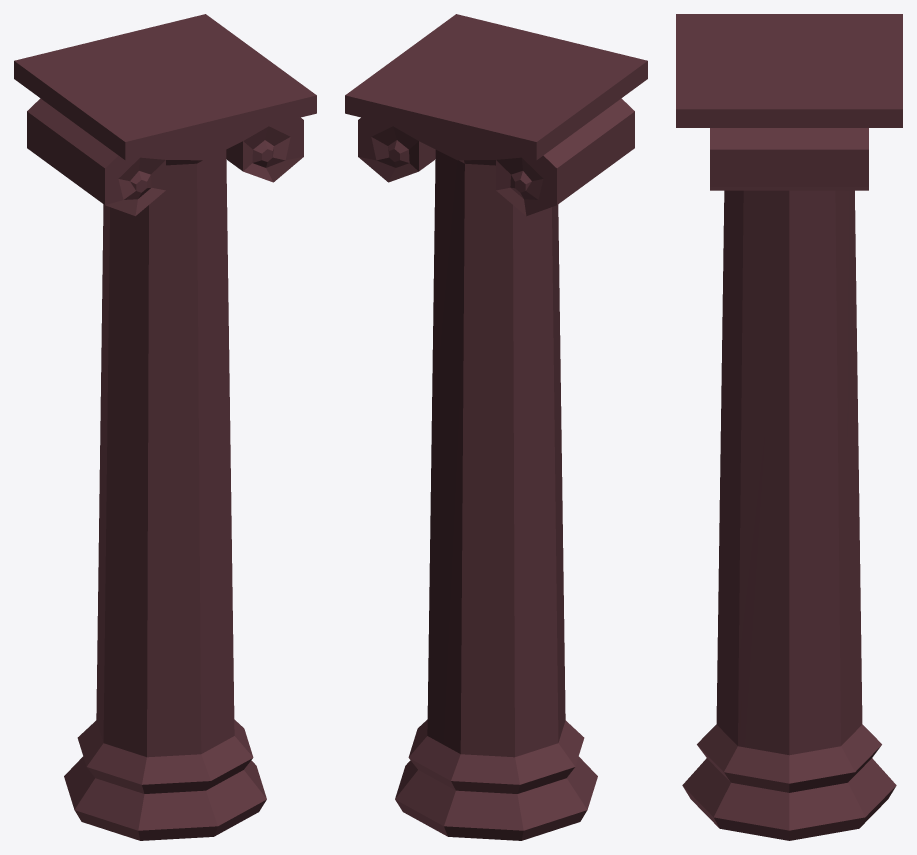
File: SM_Pillar_Ionic_Small_Empire.fbx
3 renders of one model, left to right at view 1: azimuth 30°, elevation 25°; view 2: azimuth 150°, elevation 25°; view 3: azimuth 270°, elevation 25°, orthographic.
Visible parts, largest first — view 1: SM_Pillar_Ionic_Small_Empire; view 2: SM_Pillar_Ionic_Small_Empire; view 3: SM_Pillar_Ionic_Small_Empire.
Boxes of the visible parts, box(x1,y1,x2,y2) form: SM_Pillar_Ionic_Small_Empire: box(14, 14, 316, 840); SM_Pillar_Ionic_Small_Empire: box(345, 14, 647, 840); SM_Pillar_Ionic_Small_Empire: box(676, 14, 902, 840).
Size of the model in its own units: 0.8632 by 3 by 0.8355.
